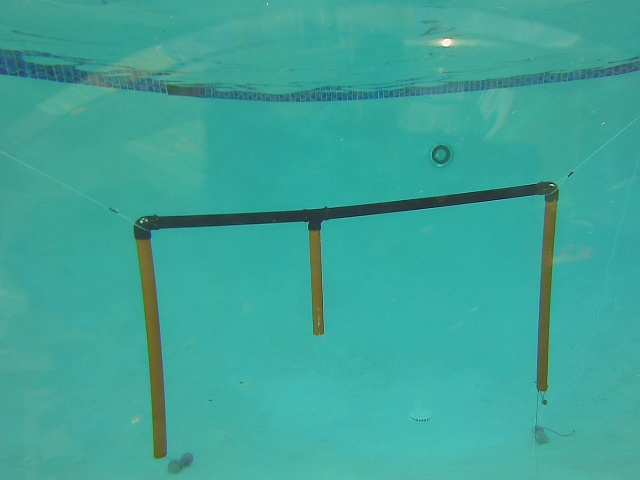Gate: (132, 233, 171, 459), (530, 196, 561, 397), (308, 222, 326, 340)
